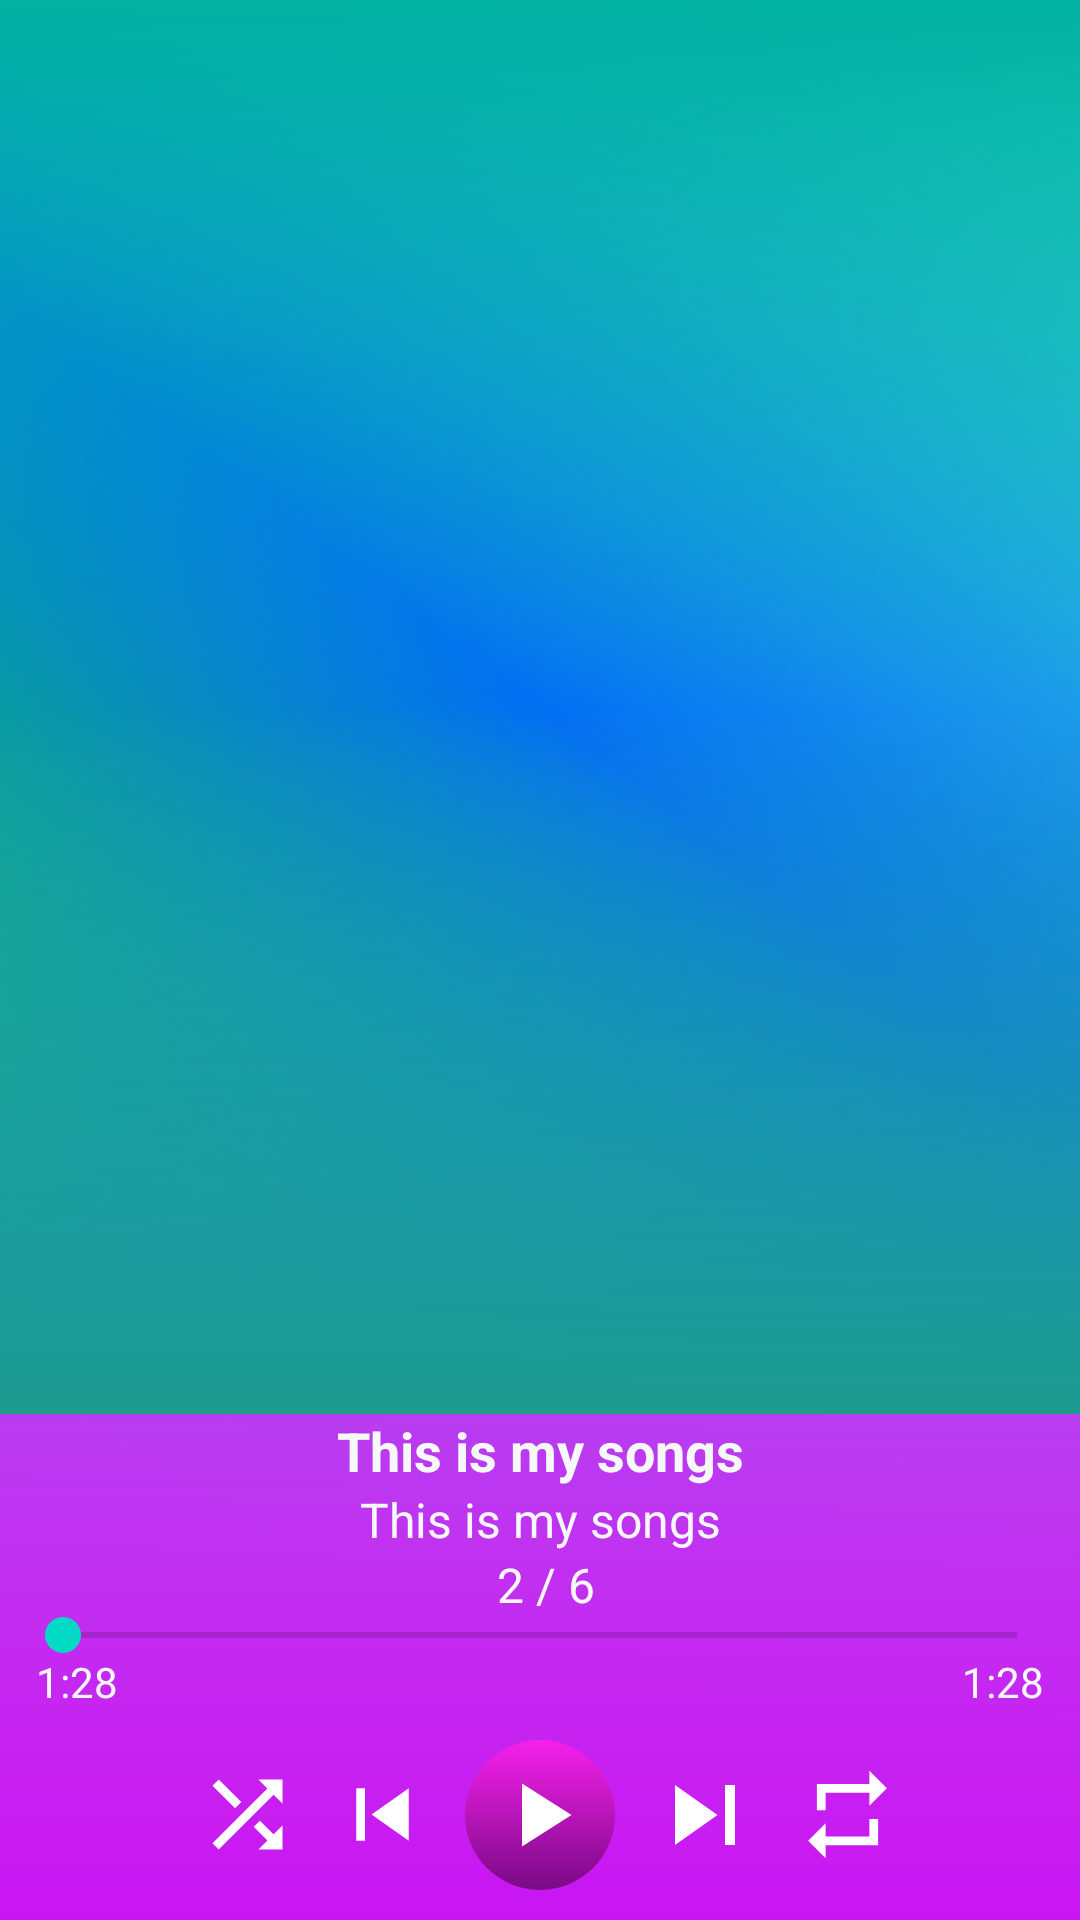

Named icons in this screenshot (1080w x 1920h) and their centers, (x,y):
next: (705,1815)
play: (540,1815)
previous: (382,1814)
repeat: (847,1814)
shuffle: (247,1814)
